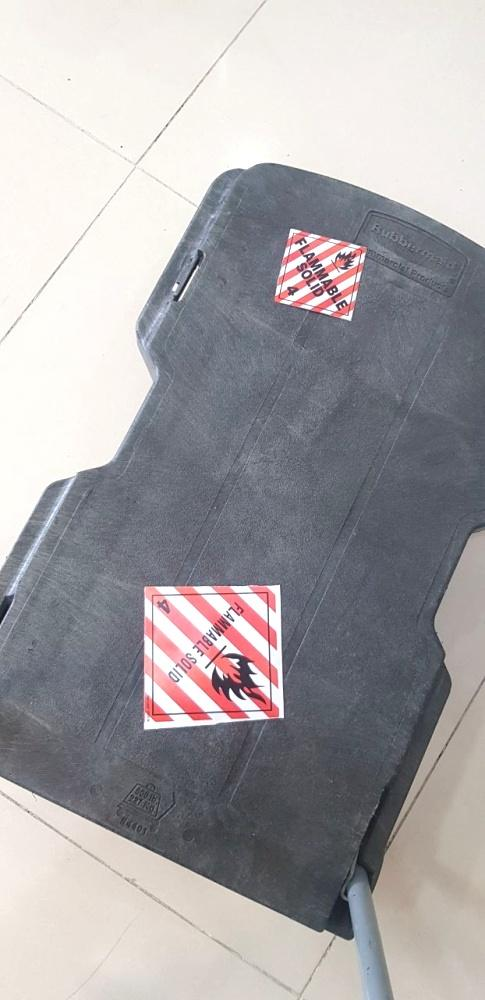flammable-solid: (137, 585, 283, 732), (271, 226, 368, 324)
